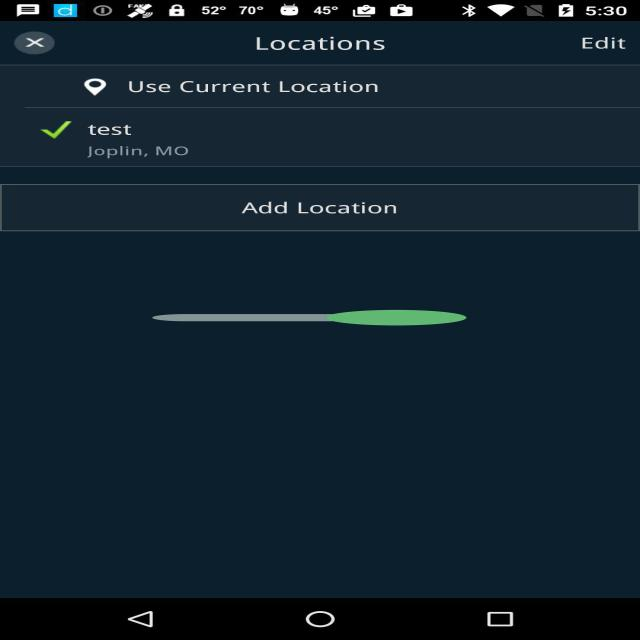social proof: (152, 300, 466, 335)
